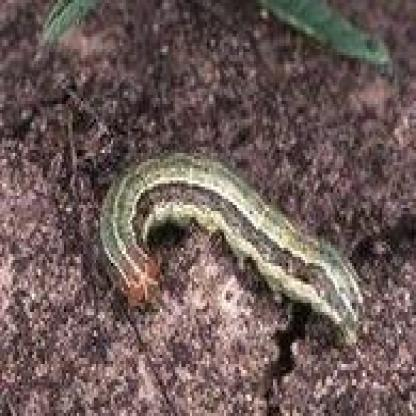armyworm: (98, 146, 366, 358)
